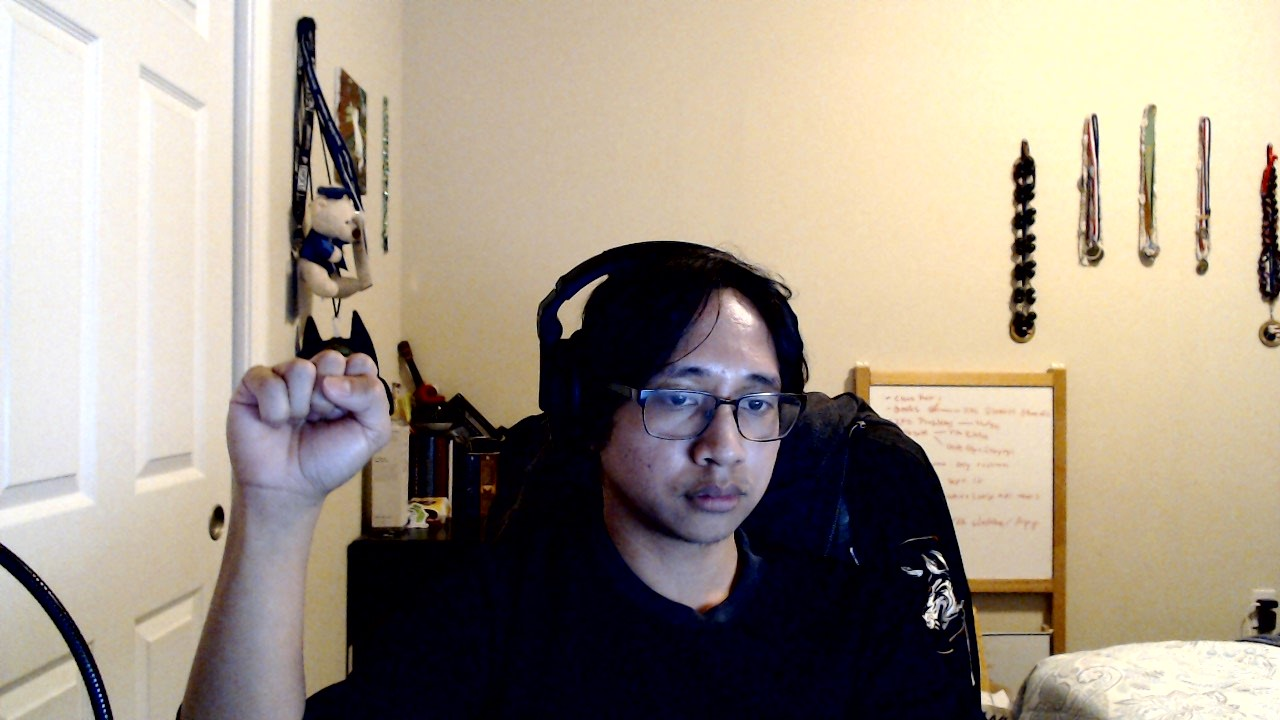s: (225, 344, 394, 510)
